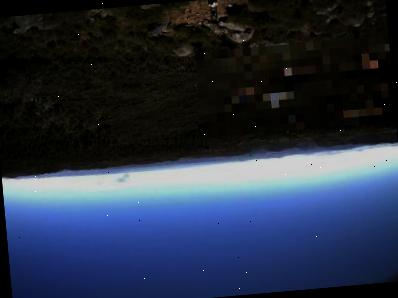smoke: (113, 167, 131, 185)
